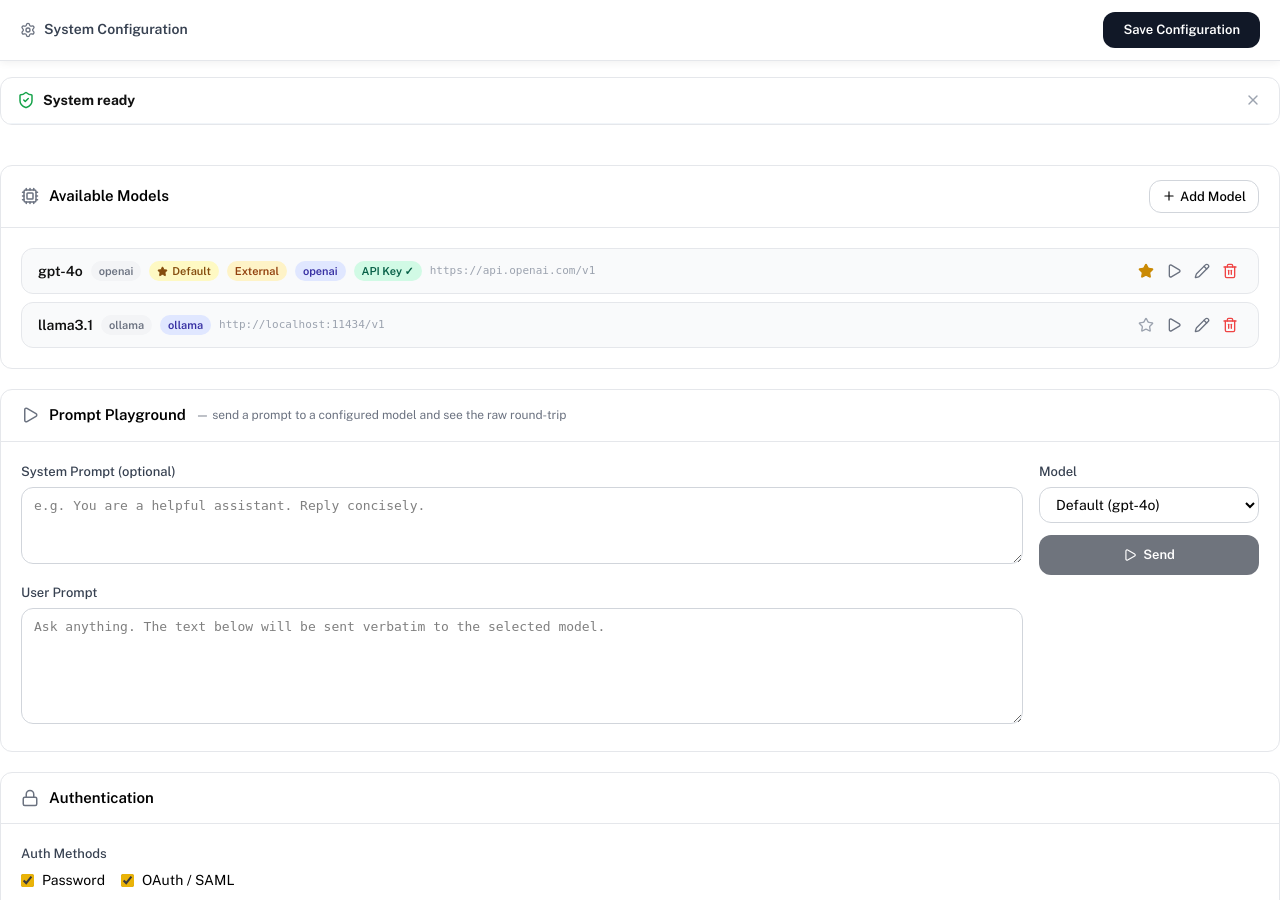
Test: ConfigTab — models addressed by id (plan 011) › deletes the clicked model by its id, not its list position
This screenshot has width=1280, height=900.
Expected: the text "Available Models" is shown, [49, 187, 169, 204]
Click the button titled "Delete model" in the row of "http://localhost:11434/v1" at (1230, 325), box [1218, 313, 1242, 337]
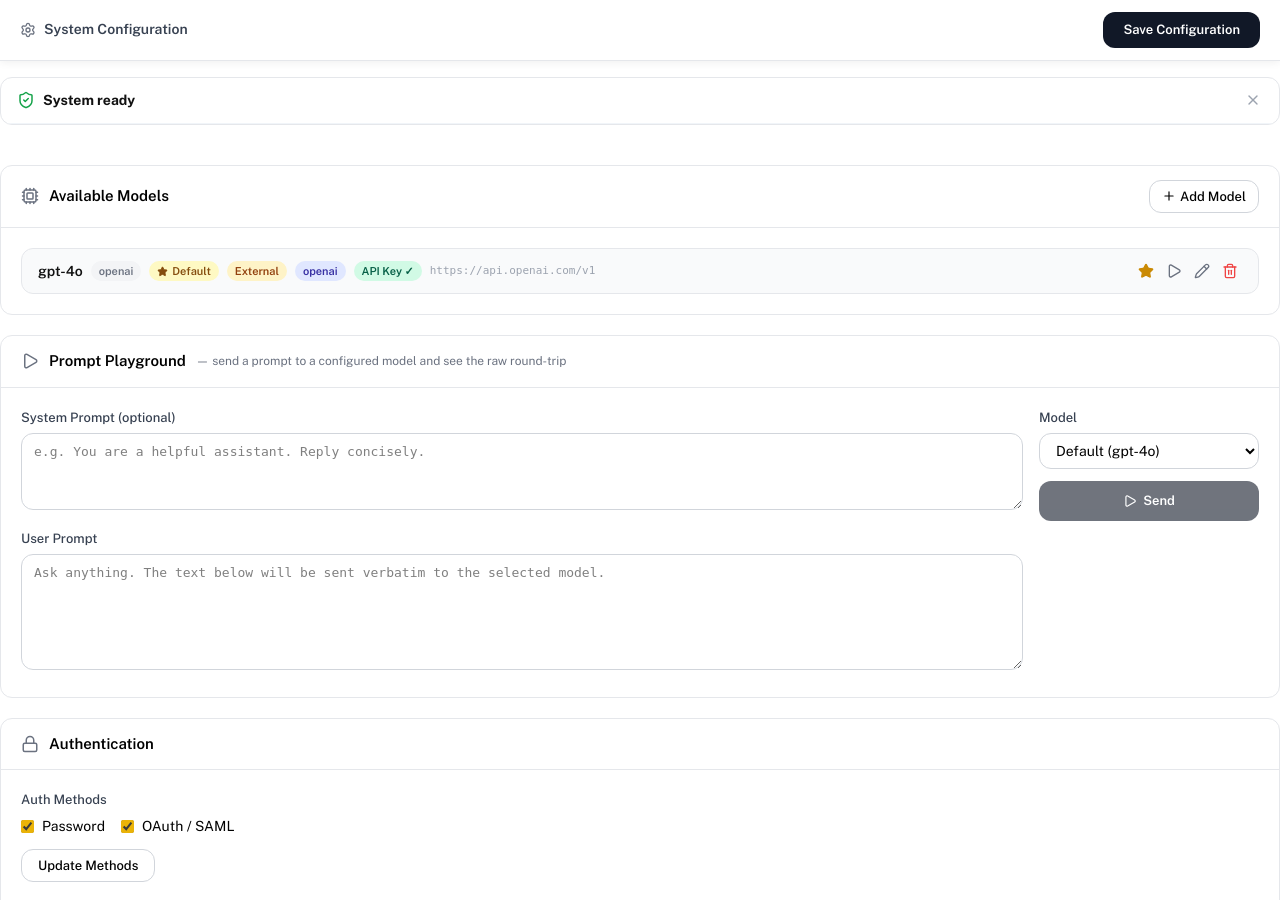
Expected: the text "gpt-4o" is shown, [38, 260, 83, 282]
Expected: the text "llama3.1" is gone
